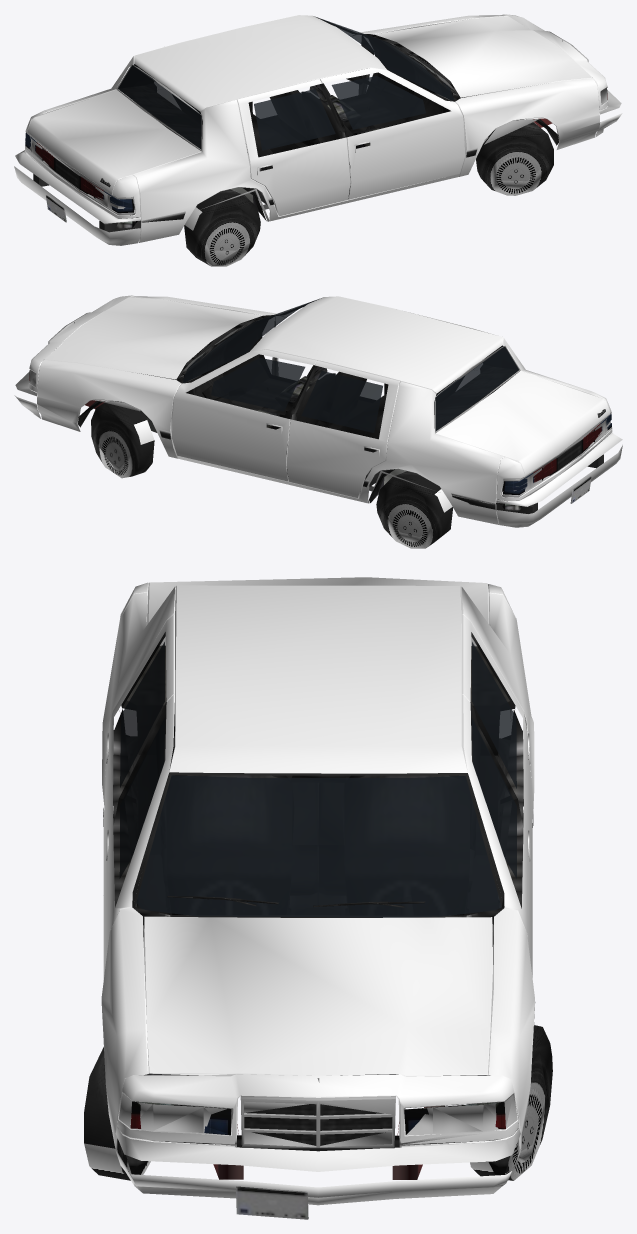
File: car_sedan.glb
The picture shows the model from 3 angles, top to bottom: view 1: azimuth 30°, elevation 25°; view 2: azimuth 150°, elevation 25°; view 3: azimuth 270°, elevation 25°; orthographic projection. The views are drawn at different scales.
Parts seen in each view (by area): view 1: paint, body, glass; view 2: paint, body, glass; view 3: paint, body, glass.
Part boxes in pixels (x1,y1,x2,y2): paint: [14, 14, 622, 245]; body: [25, 16, 607, 266]; glass: [118, 17, 453, 150]; paint: [14, 295, 622, 527]; body: [29, 303, 612, 548]; glass: [182, 298, 518, 432]; paint: [101, 577, 534, 1205]; body: [84, 632, 552, 1219]; glass: [119, 642, 516, 917].
Bounding box in the file's own units: 5.1 × 1.37 × 1.94.
2 materials, 1 textured.
